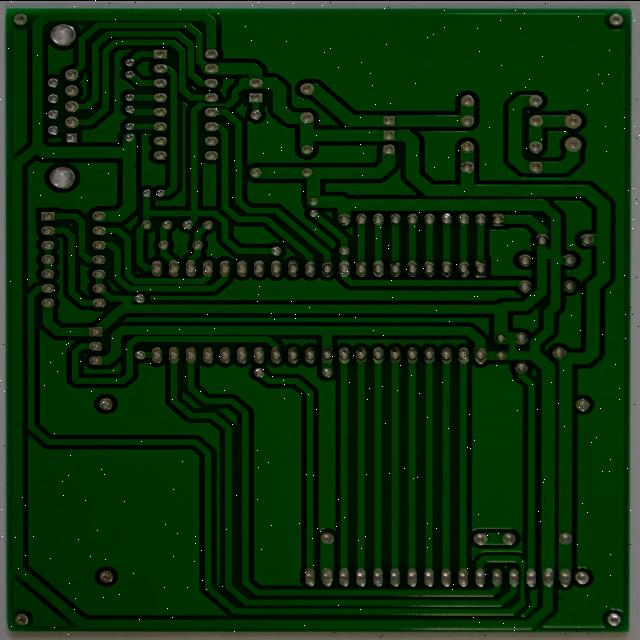short: (485, 310, 510, 335), (524, 210, 551, 233)
